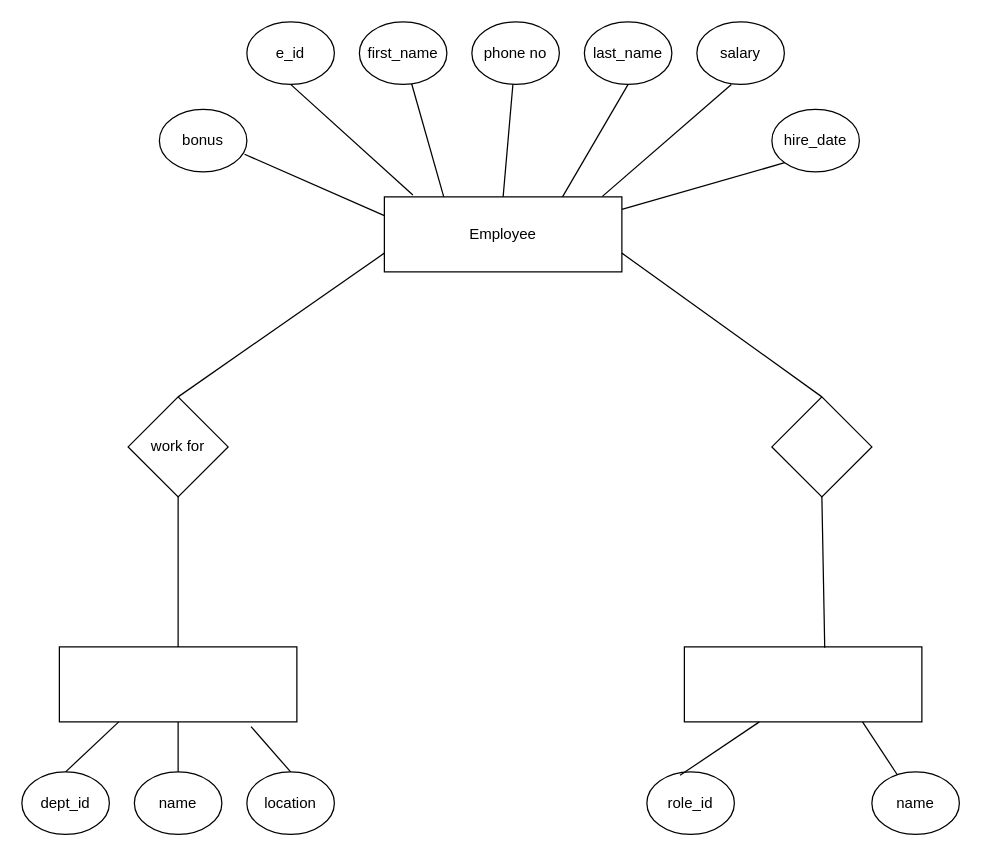
Some shapes in this 981 by 856 pixel diagram are drawn without their labels. The shapes that lost their labels are listed below. From the top down, each one's box as (x1, y1, x2, y2) in pixels, then its label:
(771, 396, 872, 497): has
(58, 646, 297, 722): Department
(683, 646, 922, 722): Role
